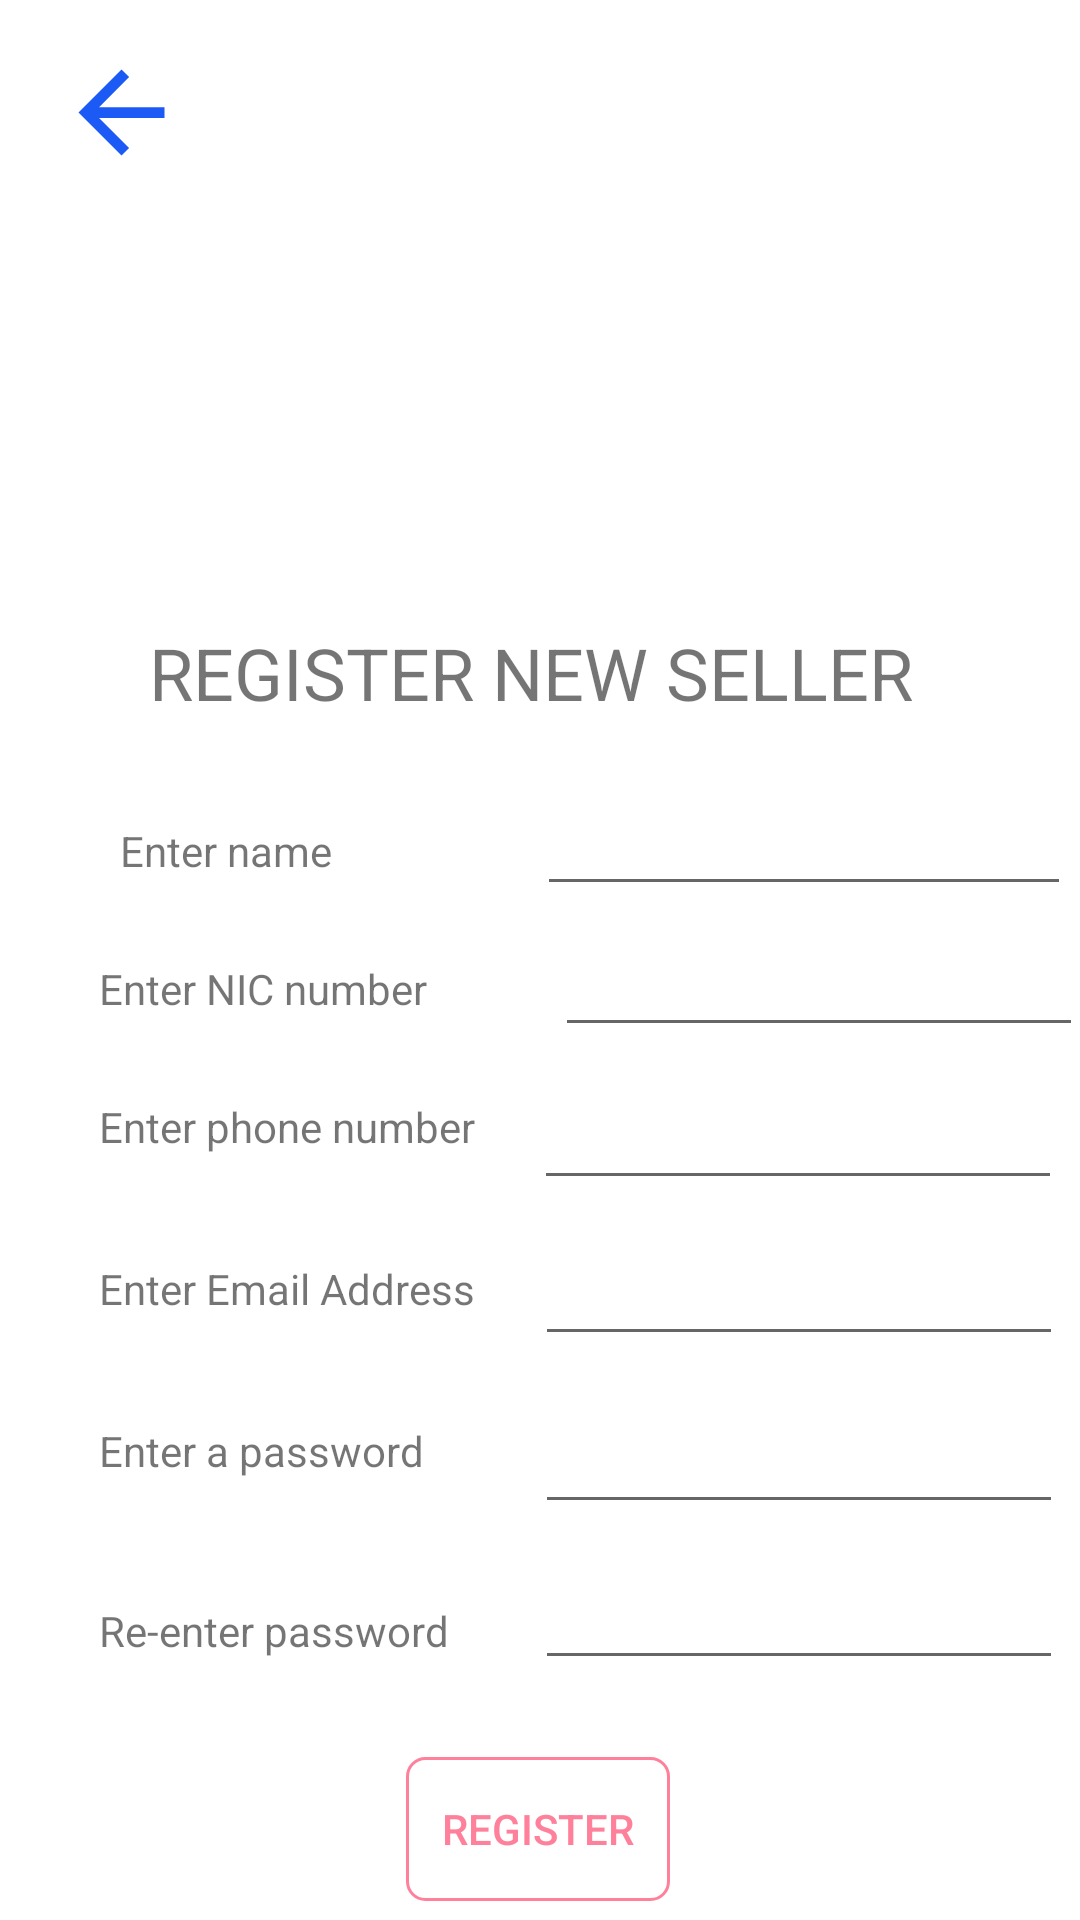

Icons on this 1080×1920 Android screen, each with its box as (x1, y1, x2, y2):
arrow back: (78, 69, 165, 156)
